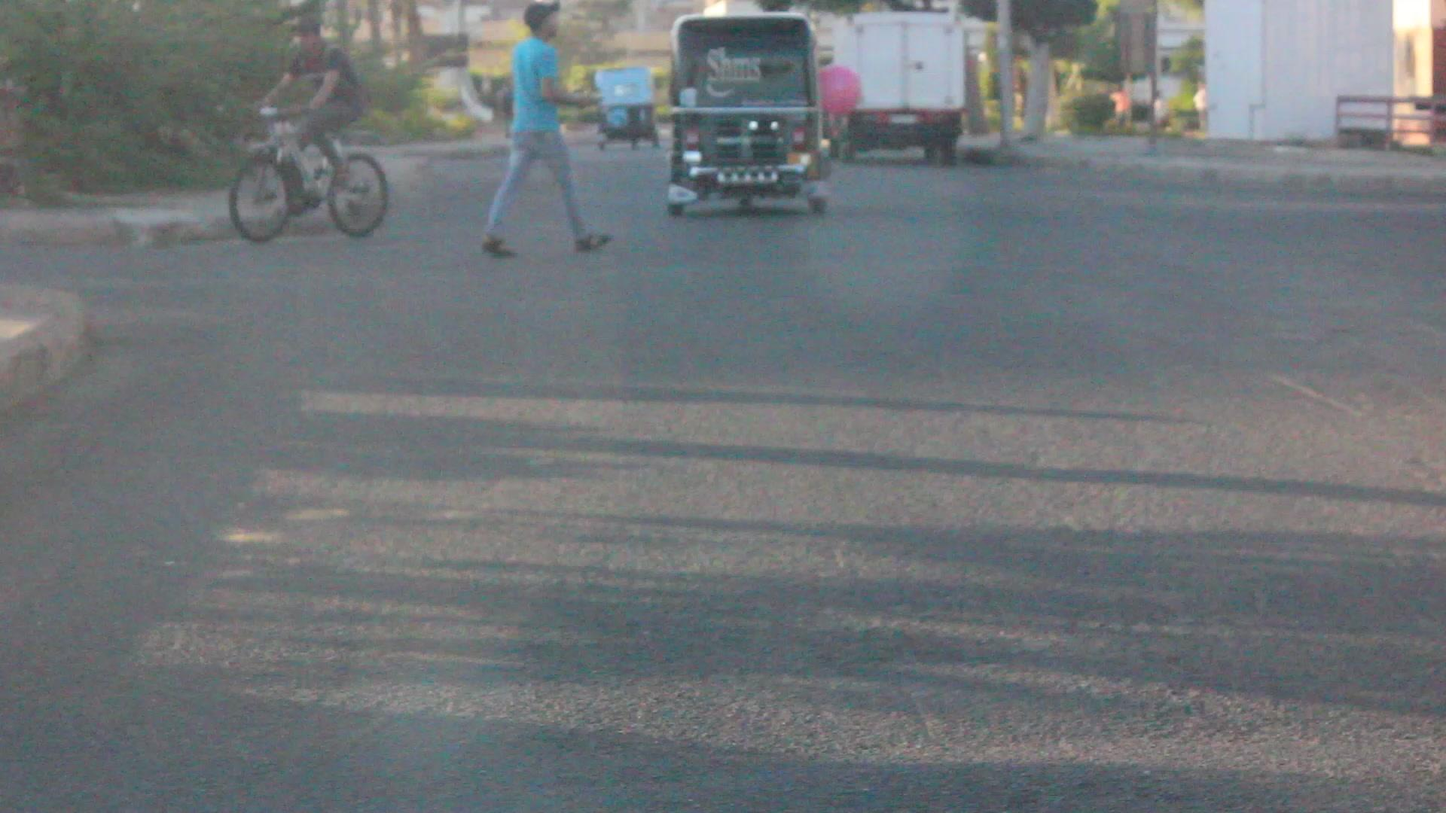Bump: (0, 535, 1445, 812)
